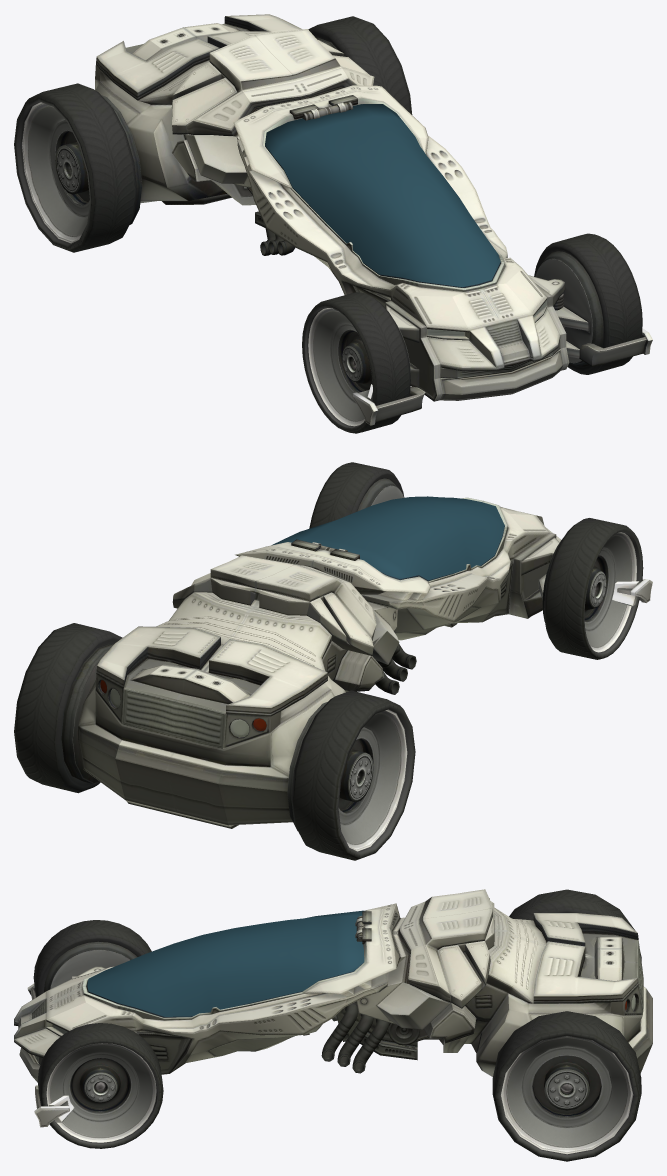
The model's file is bs-interceptor.glb.
3 renders of one model, top to bottom at view 1: azimuth 30°, elevation 25°; view 2: azimuth 150°, elevation 25°; view 3: azimuth 270°, elevation 25°, orthographic. The views are drawn at different scales.
Parts seen in each view (by area): view 1: bs_interceptor; view 2: bs_interceptor; view 3: bs_interceptor.
Boxes of the visible parts, left/top/right/bottom form: bs_interceptor: left=14, top=14, right=652, bottom=433; bs_interceptor: left=14, top=462, right=652, bottom=860; bs_interceptor: left=14, top=889, right=652, bottom=1161.
Bounding box in the file's own units: 2.41 × 1.47 × 4.6.
3 materials, 1 textured.
